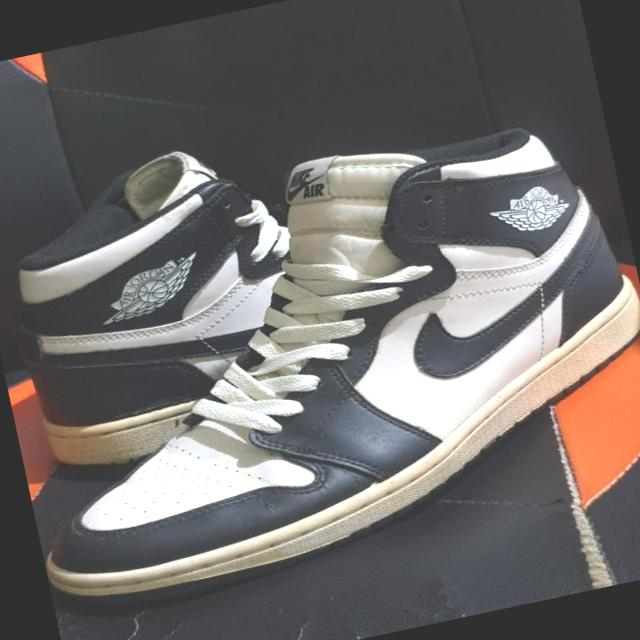nike_fake_jordan: (0, 98, 640, 627), (0, 130, 333, 483)
